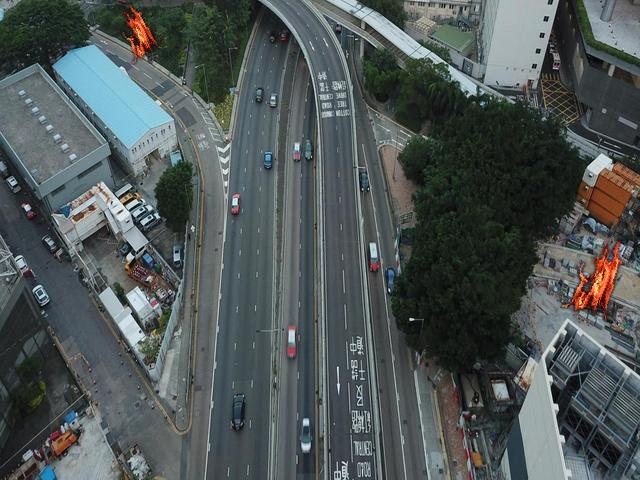fire: (559, 222, 627, 323), (116, 1, 166, 63)
